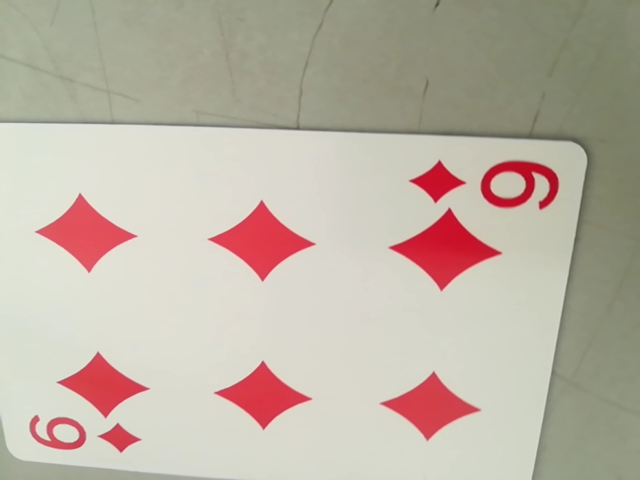fk 6: (407, 154, 558, 216), (20, 409, 145, 464)
